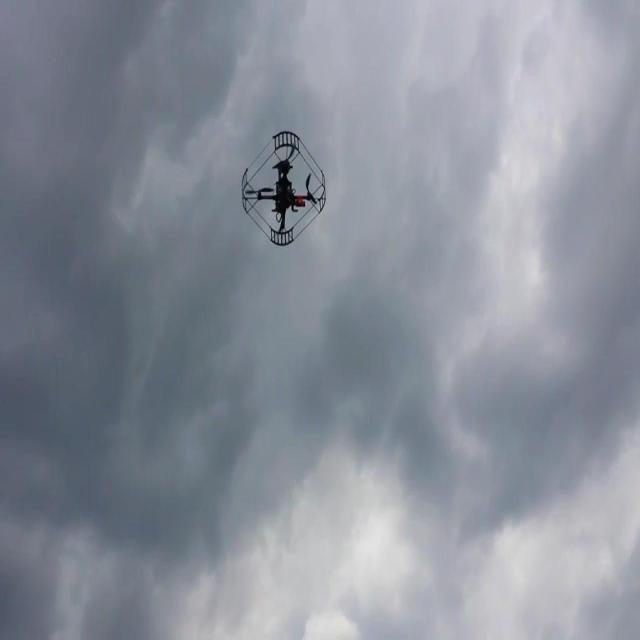drone: (241, 127, 328, 248)
